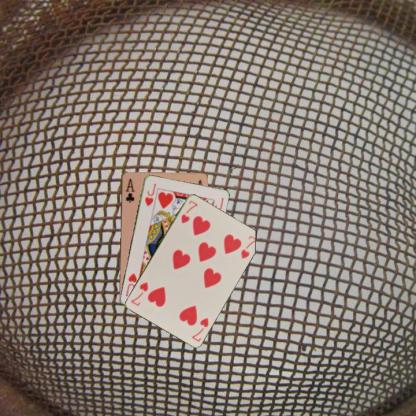7h: (189, 315, 210, 343), (178, 198, 198, 224)
Ac: (123, 176, 135, 203)
Jh: (142, 181, 157, 207)
